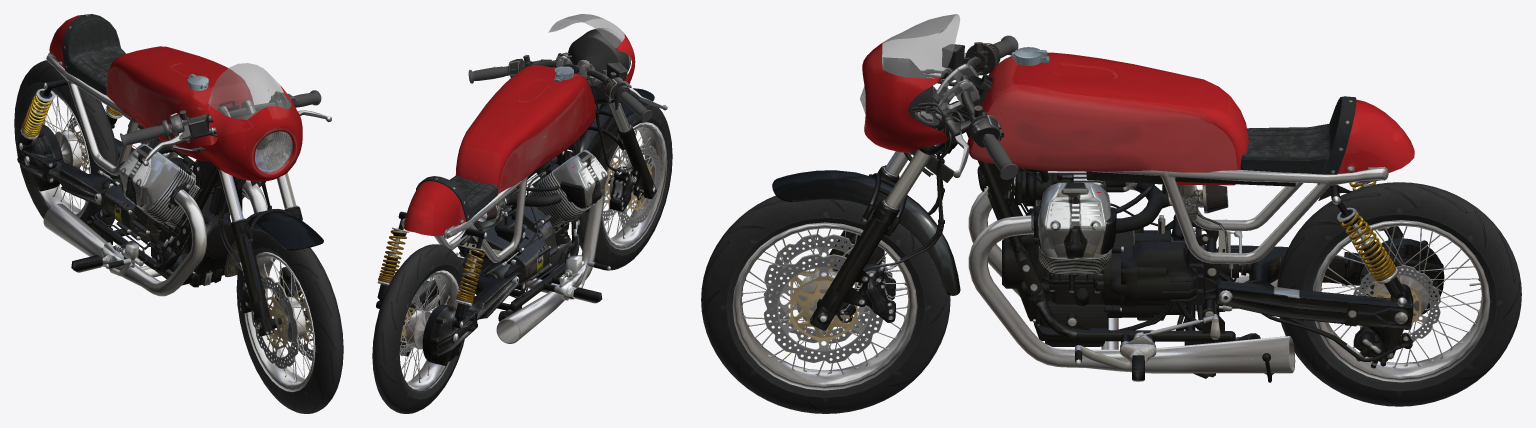
The model's file is car_bike.glb.
3 renders of one model, left to right at view 1: azimuth 30°, elevation 25°; view 2: azimuth 150°, elevation 25°; view 3: azimuth 270°, elevation 25°, orthographic. The views are drawn at different scales.
Visible parts, largest first — view 1: body, wheel_F, steer, wheel_R; view 2: body, wheel_R, wheel_F, steer; view 3: body, wheel_F, wheel_R, steer.
Boxes of the visible parts, x1,y1,x2,y2 form: body: (16, 14, 323, 296); wheel_F: (236, 230, 343, 413); steer: (120, 90, 331, 336); wheel_R: (14, 60, 118, 226); body: (376, 14, 654, 365); wheel_R: (372, 244, 465, 413); wheel_F: (578, 104, 672, 270); steer: (468, 52, 667, 200); body: (772, 14, 1444, 382); wheel_F: (701, 195, 950, 413); wheel_R: (1277, 182, 1521, 406); steer: (810, 35, 1018, 330).
Bounding box in the file's own units: 0.7624 × 1.12 × 2.11.
11 materials, 10 textured.
